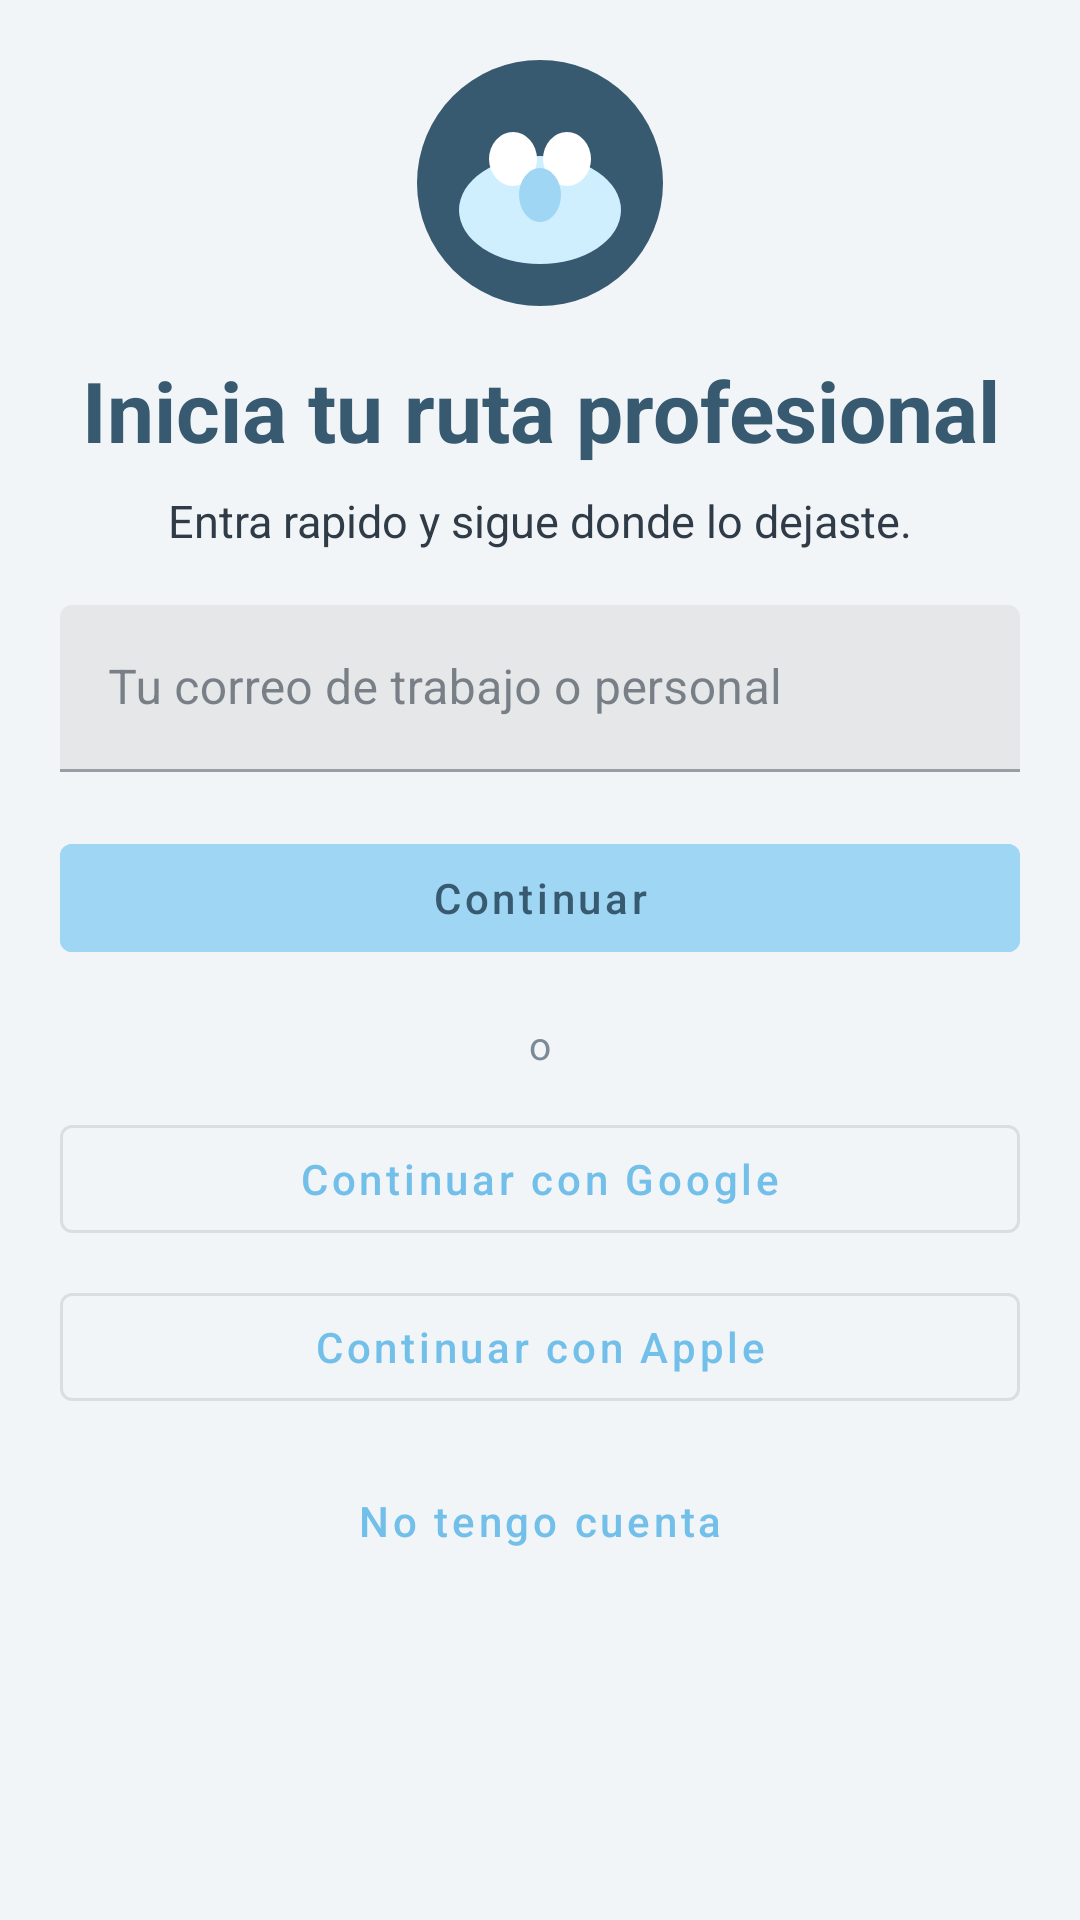

Icons on this 1080w x 1920h Android screen, each with its box as (x1, y1, x2, y2):
Mascota lobo de Woofie: (417, 60, 663, 306)
